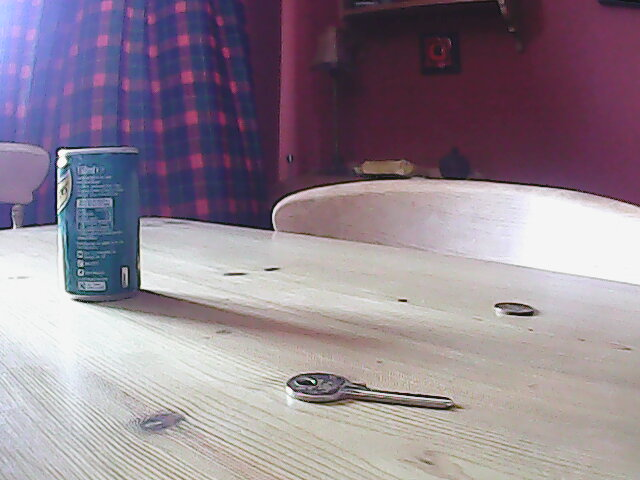Can: (50, 142, 146, 308)
Coin: (492, 300, 539, 318)
Key: (287, 372, 458, 416)
